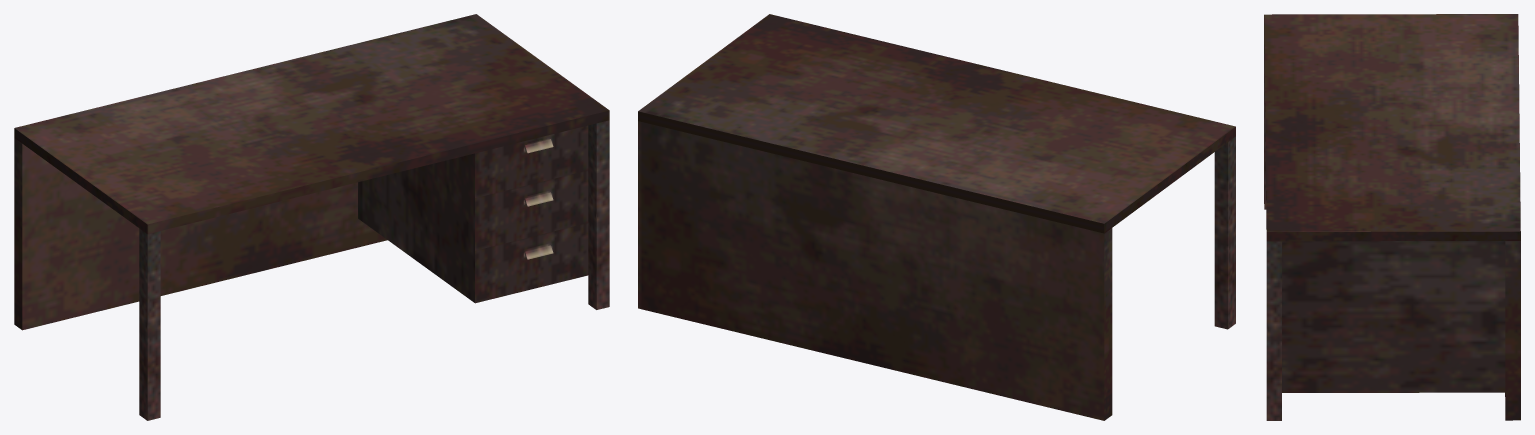
File: desk2_alt3_weathered.obj
3 renders of one model, left to right at view 1: azimuth 30°, elevation 25°; view 2: azimuth 150°, elevation 25°; view 3: azimuth 270°, elevation 25°, orthographic. The views are drawn at different scales.
Visible parts, largest first — view 1: desk2_alt3_weathered; view 2: desk2_alt3_weathered; view 3: desk2_alt3_weathered.
Boxes of the visible parts, x1,y1,x2,y2 form: desk2_alt3_weathered: (14,14,609,420); desk2_alt3_weathered: (638,14,1235,420); desk2_alt3_weathered: (1264,14,1520,420).
Bounding box in the file's own units: 2.21 × 0.8911 × 1.1.
